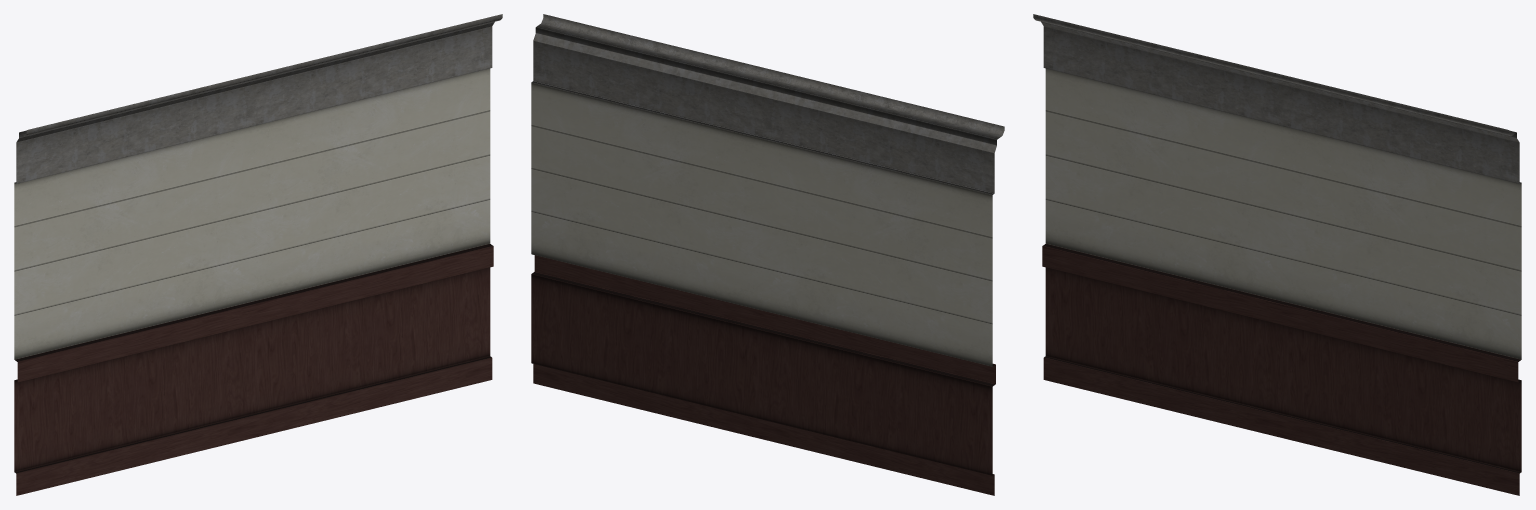
Rendered from Wall 6 4m Exploded.fbx.
3 views of the same model, side by side, from view 1: azimuth 30°, elevation 25°; view 2: azimuth 150°, elevation 25°; view 3: azimuth 330°, elevation 25° (orthographic). The views are drawn at different scales.
Visible parts, largest first — view 1: F, H, B, D, A, C, E, G; view 2: C, F, H, E, B, A, D, G; view 3: C, A, G, E, H, D, F, B.
Part boxes in pixels (x1,y1,x2,y2): F: [311, 43, 383, 423]; H: [430, 14, 502, 394]; B: [73, 101, 145, 481]; D: [192, 72, 264, 452]; A: [14, 115, 86, 495]; C: [133, 86, 205, 466]; E: [252, 57, 324, 437]; G: [371, 28, 443, 408]; C: [819, 84, 889, 467]; F: [646, 42, 716, 425]; H: [531, 14, 600, 397]; E: [704, 56, 773, 439]; B: [877, 98, 946, 481]; A: [935, 112, 1004, 495]; D: [762, 70, 831, 453]; G: [589, 28, 658, 411]; C: [1152, 43, 1224, 423]; A: [1033, 14, 1105, 394]; G: [1390, 101, 1462, 481]; E: [1271, 72, 1343, 452]; H: [1449, 115, 1521, 495]; D: [1211, 57, 1283, 437]; F: [1330, 86, 1402, 466]; B: [1092, 28, 1164, 408].
Size of the model in its own units: 400 by 300 by 18.12.
